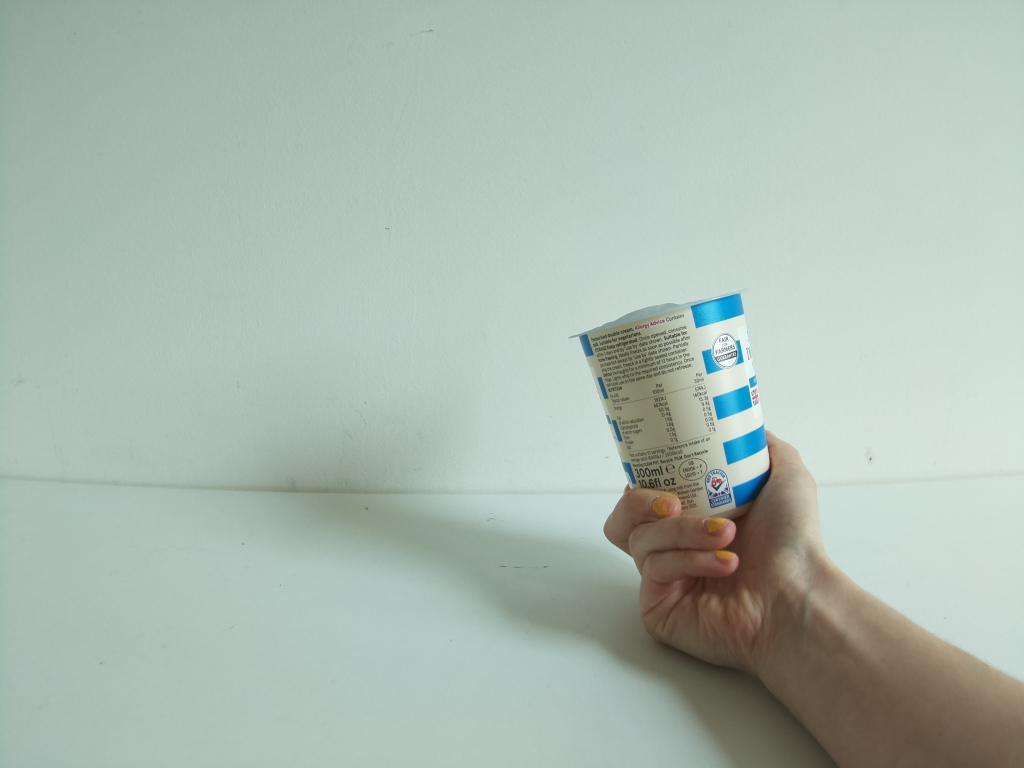cream: (570, 287, 777, 517)
